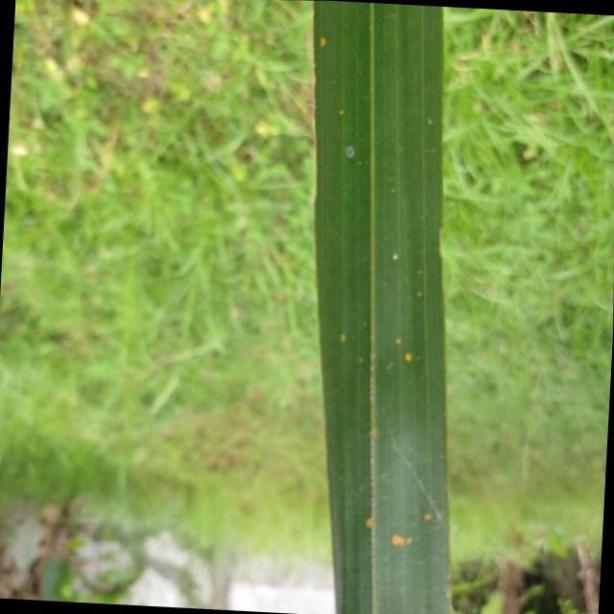Kalium: (312, 0, 451, 614)
